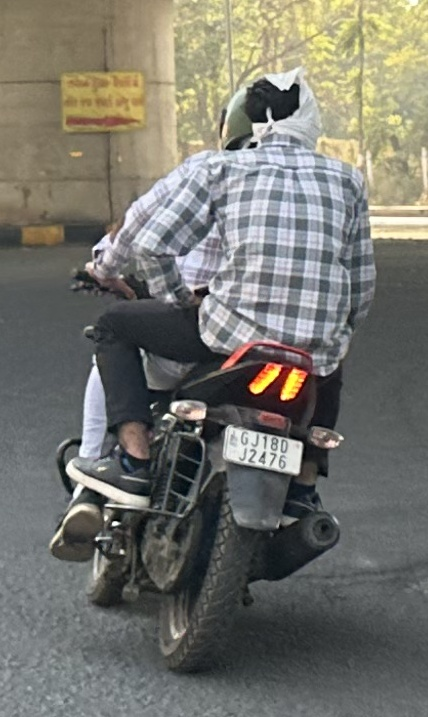BikeWithRider: (40, 58, 378, 678)
Helmet: (209, 78, 288, 171), (212, 76, 271, 157)
NoHelmet: (230, 64, 329, 156)
